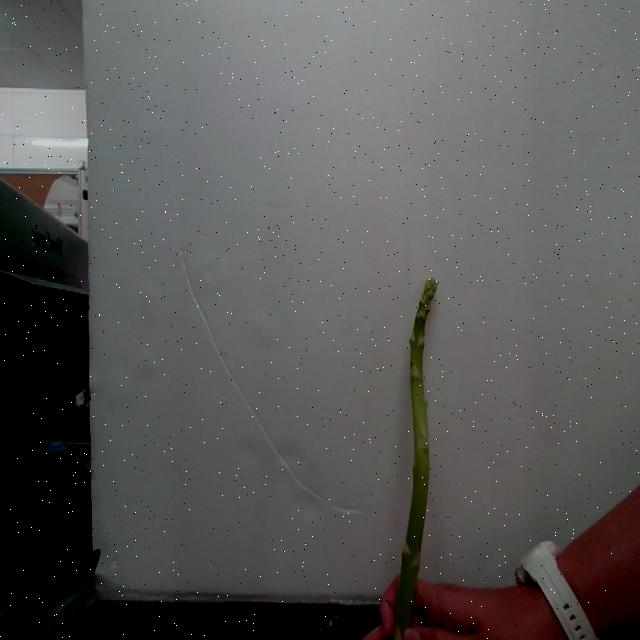aspargus: (388, 281, 438, 640)
